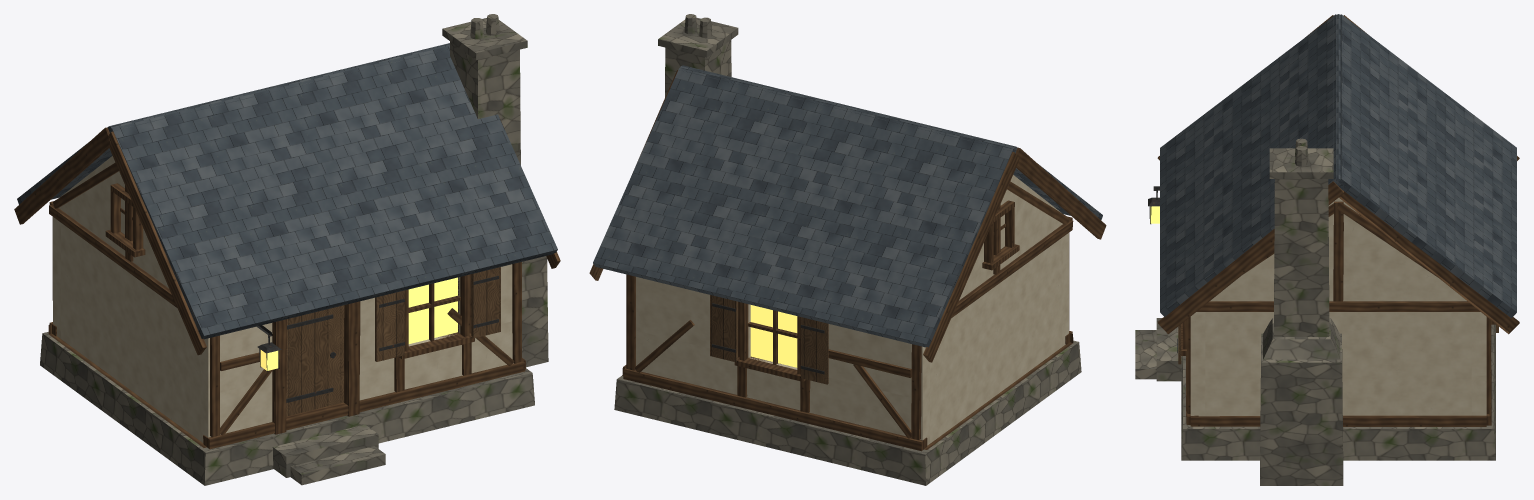
Rendered from Cottage_C.fbx.
The picture shows the model from 3 angles, left to right: view 1: azimuth 30°, elevation 25°; view 2: azimuth 150°, elevation 25°; view 3: azimuth 270°, elevation 25°; orthographic projection. The views are drawn at different scales.
Visible parts, largest first — view 1: Cottage_C; view 2: Cottage_C; view 3: Cottage_C.
Part boxes in pixels (x1,y1,x2,y2): Cottage_C: (14,14,560,485); Cottage_C: (589,14,1106,485); Cottage_C: (1135,14,1519,485).
Size of the model in its own units: 7.13 by 5.76 by 6.24.
